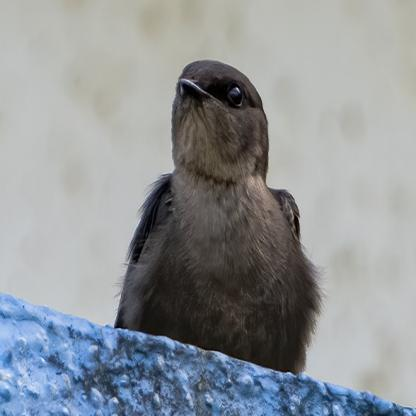Burung: (114, 59, 310, 374)
